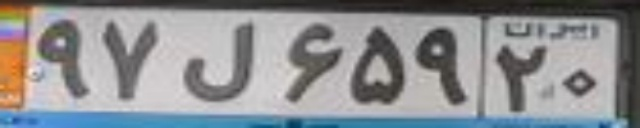0: (556, 68, 601, 98)
2: (493, 43, 547, 112)
5: (348, 25, 405, 104)
6: (282, 22, 339, 102)
7: (101, 19, 158, 100)
9: (33, 18, 88, 97), (413, 27, 467, 104)
lam: (185, 22, 248, 101)
